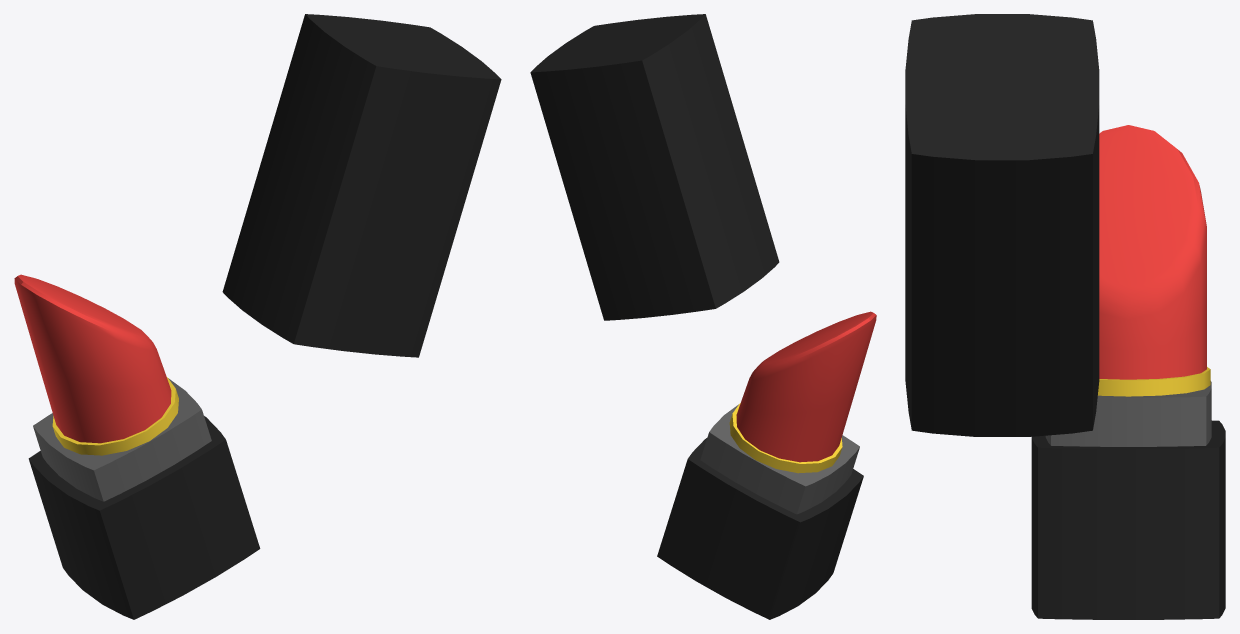
File: lipstick.glb
3 views of the same model, side by side, from view 1: azimuth 30°, elevation 25°; view 2: azimuth 150°, elevation 25°; view 3: azimuth 270°, elevation 25° (orthographic). The views are drawn at different scales.
Visible parts, largest first — view 1: Cube.6126; view 2: Cube.6126; view 3: Cube.6126.
Boxes of the visible parts, <box> form: Cube.6126: <box>14,14,501,619</box>; Cube.6126: <box>530,14,876,619</box>; Cube.6126: <box>905,14,1225,619</box>.
Size of the model in its own units: 1.62 by 2.11 by 0.8806.
Materials: 1 (1 with a texture image).
